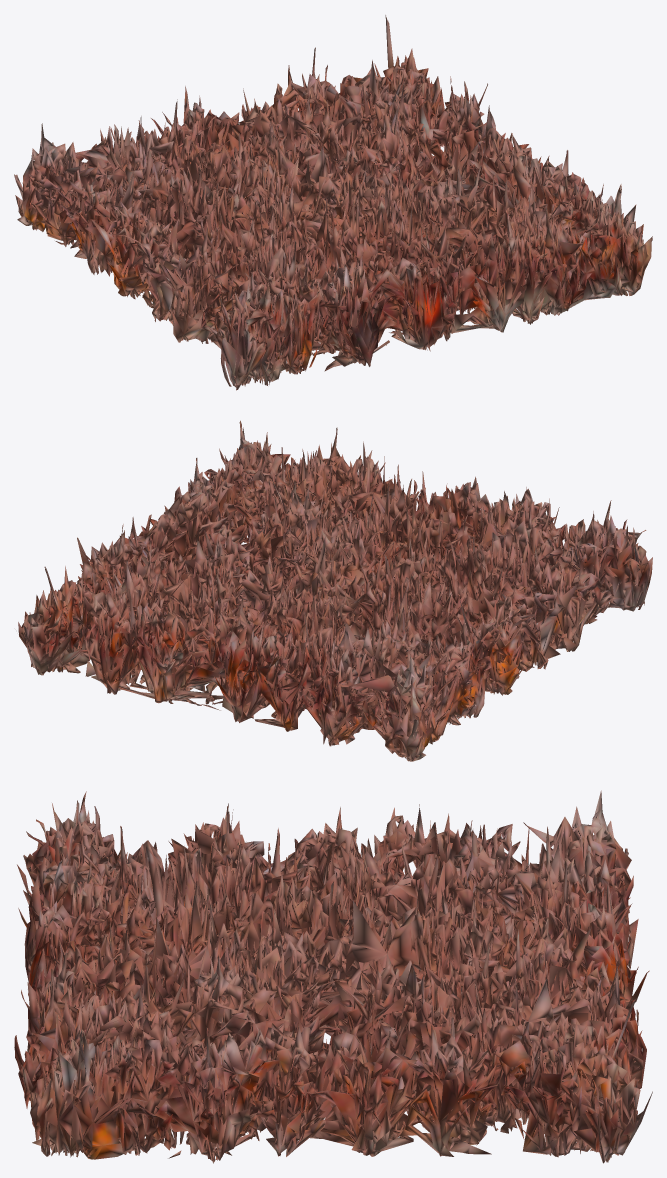
The model's file is Meshy_AI_Verdant_Symmetry_1115233332_texture.glb.
3 renders of one model, top to bottom at view 1: azimuth 30°, elevation 25°; view 2: azimuth 150°, elevation 25°; view 3: azimuth 270°, elevation 25°, orthographic. The views are drawn at different scales.
Bounding box in the file's own units: 1.93 × 0.5145 × 1.95.
Materials: 1 (1 with a texture image).
